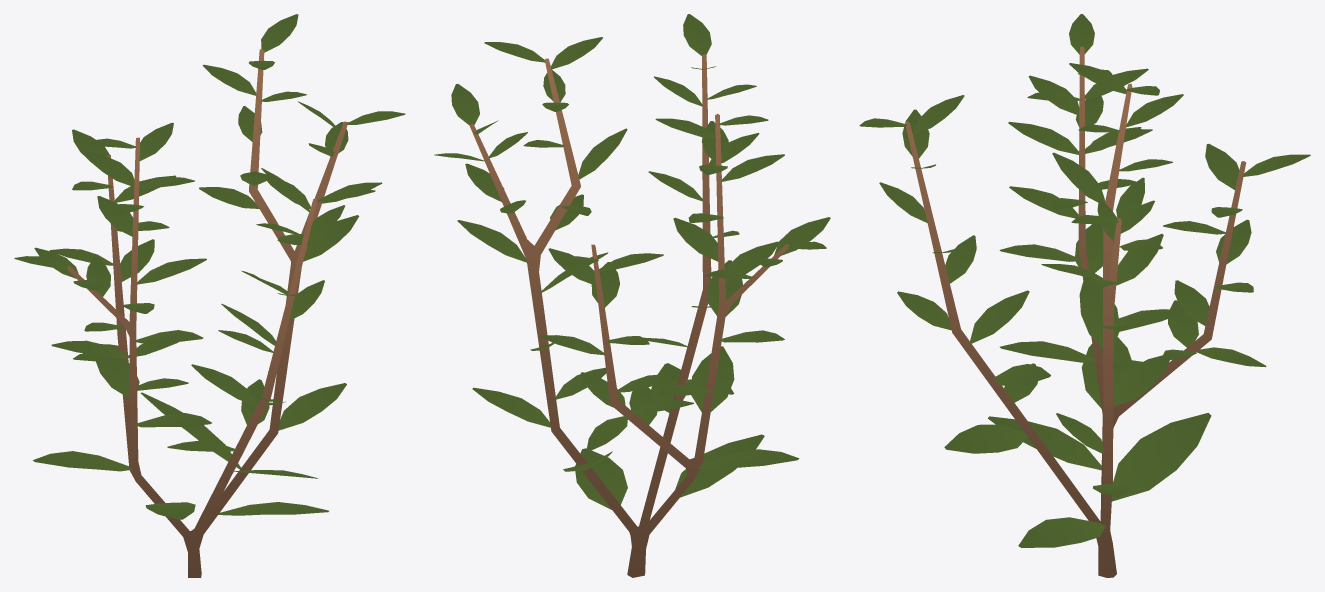
The model's file is Plant_04.fbx.
3 renders of one model, left to right at view 1: azimuth 30°, elevation 25°; view 2: azimuth 150°, elevation 25°; view 3: azimuth 270°, elevation 25°, orthographic. The views are drawn at different scales.
Visible parts, largest first — view 1: Plant_04_LOD0; view 2: Plant_04_LOD0; view 3: Plant_04_LOD0.
Part boxes in pixels (x1=…): Plant_04_LOD0: x1=14, y1=14, x2=405, y2=577; Plant_04_LOD0: x1=434, y1=14, x2=830, y2=577; Plant_04_LOD0: x1=859, y1=14, x2=1310, y2=577.
Size of what is drawn, in the model's own units: 0.6354 by 0.8212 by 0.6167.
